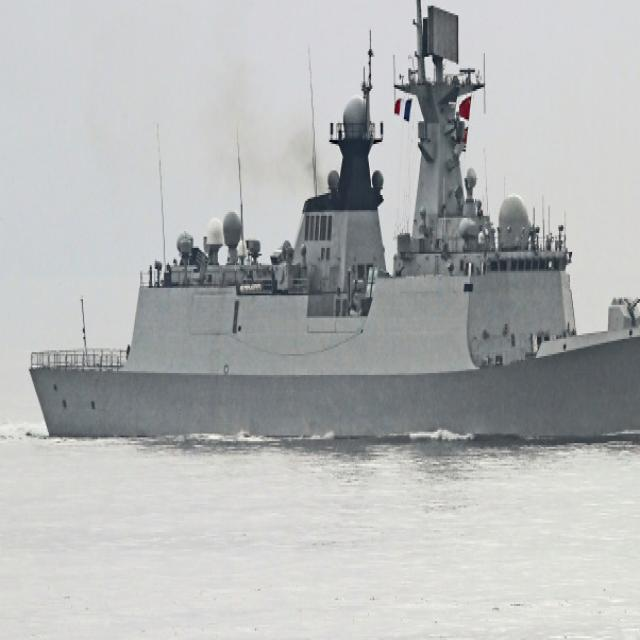Fragata: (21, 1, 640, 455)
